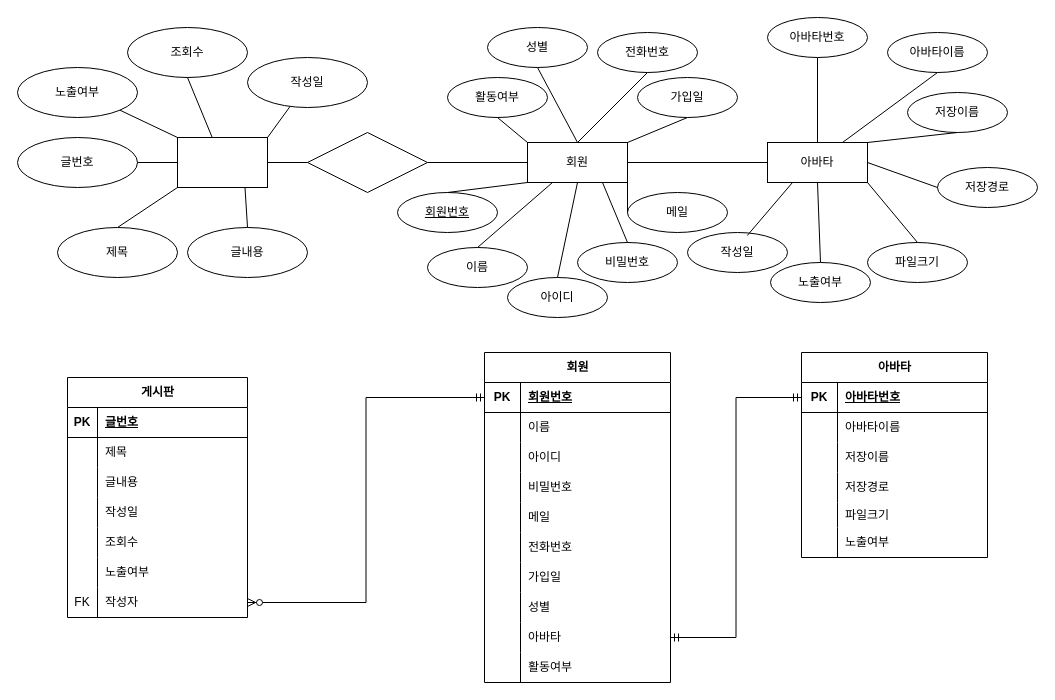
Some shapes in this 1055 by 700 pixel diagram are drawn without their labels. Here are the shapes that lost their labels. From the top down, the centre of each, then its label:
the point at 222,162: 게시글
the point at 367,162: 글작성
